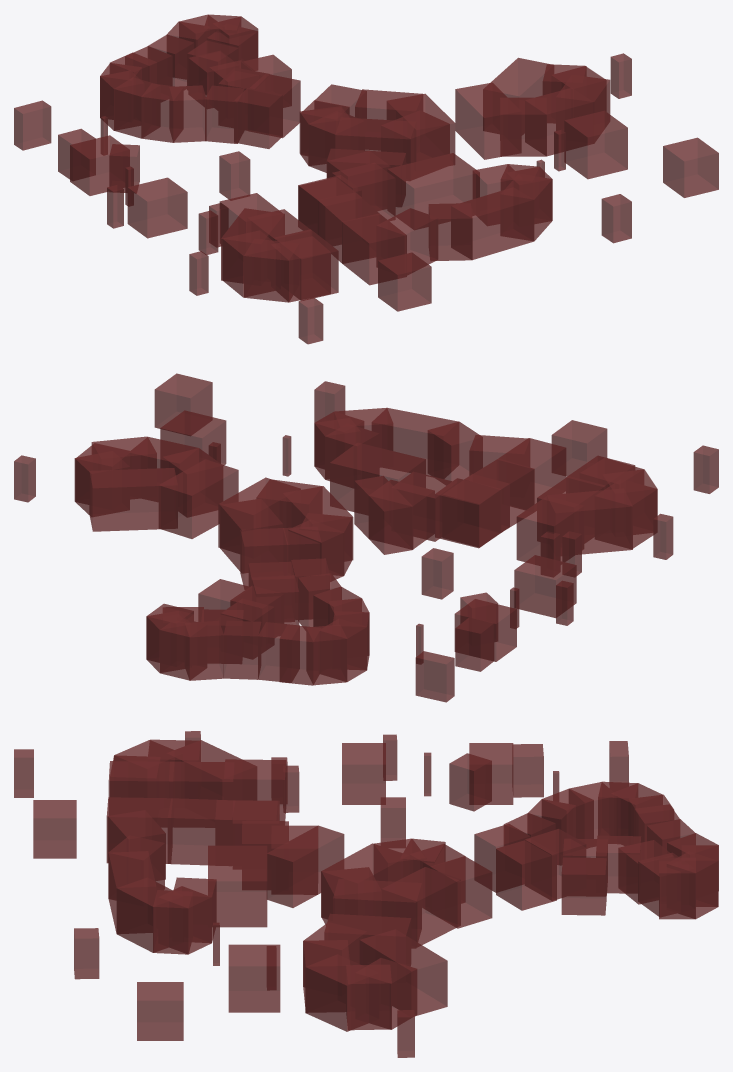
File: SceneBoundingBoxes.fbx
3 views of the same model, one above another, from view 1: azimuth 30°, elevation 25°; view 2: azimuth 150°, elevation 25°; view 3: azimuth 270°, elevation 25° (orthographic). The views are drawn at different scales.
Visible parts, largest first — view 1: BoundingBox40, BoundingBox49, BoundingBox79, BoundingBox38, BoundingBox86, BoundingBox87, BoundingBox83, BoundingBox81, BoundingBox82, BoundingBox59, BoundingBox50, BoundingBox32 (+61 smaller); view 2: BoundingBox28, BoundingBox79, BoundingBox49, BoundingBox80, BoundingBox40, BoundingBox43, BoundingBox41, BoundingBox89, BoundingBox39, BoundingBox87, BoundingBox81, BoundingBox25 (+61 smaller); view 3: BoundingBox40, BoundingBox28, BoundingBox88, BoundingBox39, BoundingBox25, BoundingBox86, BoundingBox16, BoundingBox38, BoundingBox49, BoundingBox80, BoundingBox50, BoundingBox29 (+61 smaller).
Boxes of the visible parts, x1,y1,x2,y2 form: BoundingBox40: (387,153,479,229); BoundingBox49: (451,187,534,259); BoundingBox79: (455,83,521,159); BoundingBox38: (564,110,627,179); BoundingBox86: (318,192,380,263); BoundingBox87: (342,213,406,285); BoundingBox83: (271,236,330,302); BoundingBox81: (222,230,280,297); BoundingBox82: (244,238,298,302); BoundingBox59: (127,177,187,238); BoundingBox50: (500,174,552,240); BoundingBox32: (525,88,593,156); BoundingBox28: (89,468,177,531); BoundingBox79: (159,459,238,538); BoundingBox49: (371,407,458,478); BoundingBox80: (547,489,632,555); BoundingBox40: (330,443,425,514); BoundingBox43: (442,474,509,547); BoundingBox41: (368,479,434,549); BoundingBox89: (435,478,500,548); BoundingBox39: (354,476,413,554); BoundingBox87: (497,438,566,510); BoundingBox81: (595,480,657,549); BoundingBox25: (220,498,283,573); BoundingBox40: (208,845,267,927); BoundingBox28: (359,929,447,1016); BoundingBox88: (305,954,378,1031); BoundingBox39: (267,825,344,907); BoundingBox25: (381,867,460,946); BoundingBox86: (167,798,235,865); BoundingBox16: (496,839,556,910); BoundingBox38: (228,944,280,1012); BoundingBox49: (108,851,155,933); BoundingBox80: (167,740,256,800); BoundingBox50: (116,877,183,952); BoundingBox29: (356,958,416,1029).
Size of the model in its own units: 273 by 22.03 by 284.
